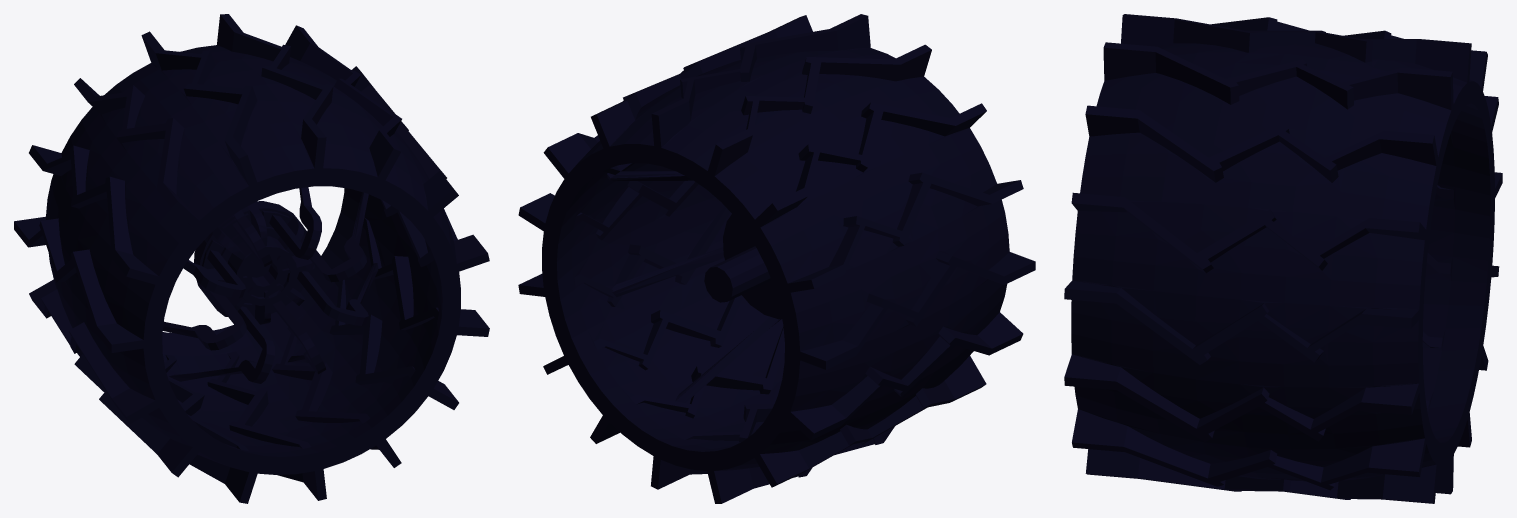
The model's file is Mars6Mars_Rover__Curiosity_1_0__-_1__Rover_Wheel_left_1.001.dae.
3 renders of one model, left to right at view 1: azimuth 30°, elevation 25°; view 2: azimuth 150°, elevation 25°; view 3: azimuth 270°, elevation 25°, orthographic. The views are drawn at different scales.
Parts seen in each view (by area): view 1: tmp_export_Mars6Mars_Rover__Curiosity_1_0__-_1__Rover_Wheel_; view 2: tmp_export_Mars6Mars_Rover__Curiosity_1_0__-_1__Rover_Wheel_; view 3: tmp_export_Mars6Mars_Rover__Curiosity_1_0__-_1__Rover_Wheel_.
Part boxes in pixels (x1,y1,x2,y2): tmp_export_Mars6Mars_Rover__Curiosity_1_0__-_1__Rover_Wheel_: (14,14,489,503); tmp_export_Mars6Mars_Rover__Curiosity_1_0__-_1__Rover_Wheel_: (518,14,1035,503); tmp_export_Mars6Mars_Rover__Curiosity_1_0__-_1__Rover_Wheel_: (1064,14,1502,503).
Bounding box in the file's own units: 1.1 × 0.9255 × 1.01.
